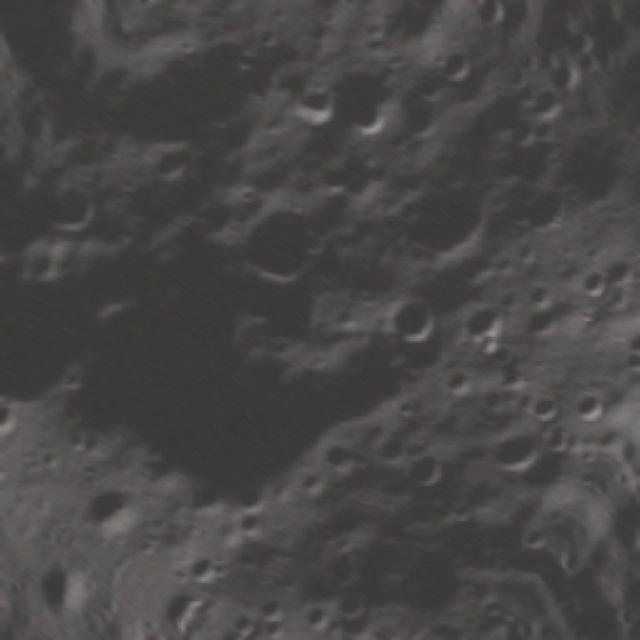crater: (387, 162, 502, 281), (287, 72, 351, 140), (381, 290, 444, 352), (461, 289, 522, 353), (528, 179, 588, 239), (492, 428, 545, 480), (346, 95, 399, 143), (528, 386, 570, 429), (573, 389, 613, 428), (184, 549, 224, 588), (167, 583, 208, 619), (544, 424, 579, 458), (576, 269, 610, 303), (0, 393, 22, 442), (627, 325, 640, 360), (406, 635, 468, 640)
